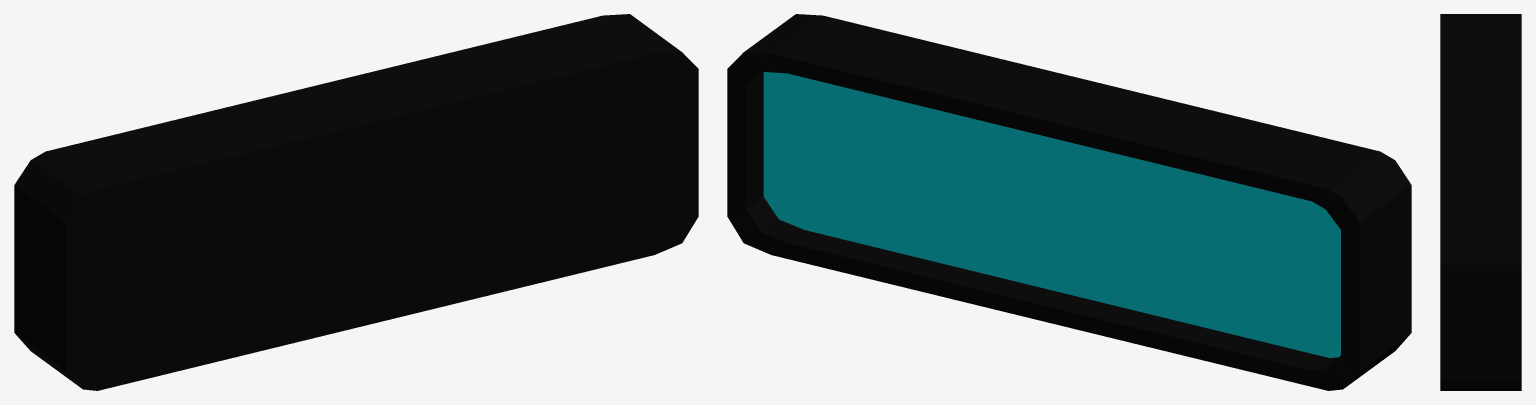
The model's file is Monitor.fbx.
3 renders of one model, left to right at view 1: azimuth 30°, elevation 25°; view 2: azimuth 150°, elevation 25°; view 3: azimuth 270°, elevation 25°, orthographic. The views are drawn at different scales.
Parts seen in each view (by area): view 1: Cube; view 2: Cube; view 3: Cube.
Part boxes in pixels (box(x1,y1,x2,y2)): Cube: box(14, 14, 698, 390); Cube: box(727, 14, 1411, 390); Cube: box(1440, 14, 1521, 390).
Size of the model in its own units: 889 by 271 by 127.
